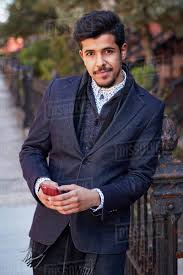middle_eastern_male: (79, 30, 128, 85)
